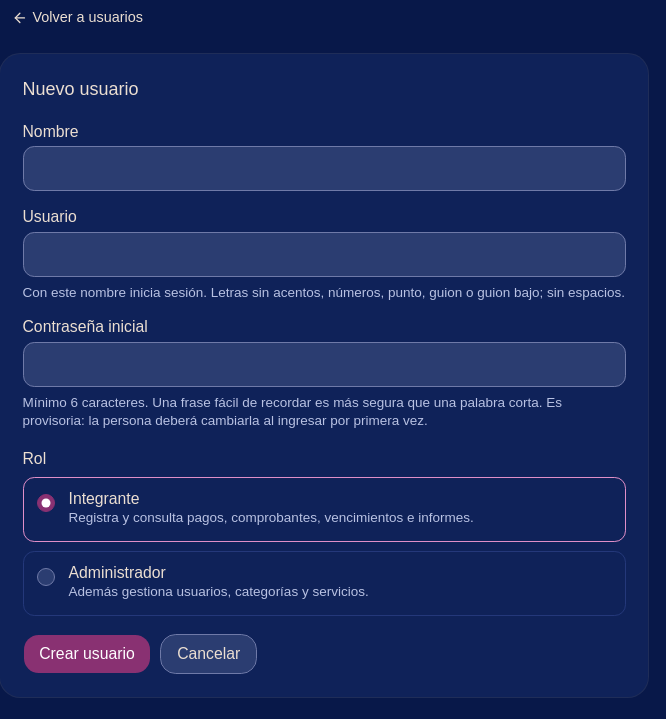
NewUserPage › rechaza nombres de usuario con espacios
Step 1. Type "Leo Pérez" into the field labelled "Nombre" → (324, 169), box x1=22 y1=146 x2=626 y2=191
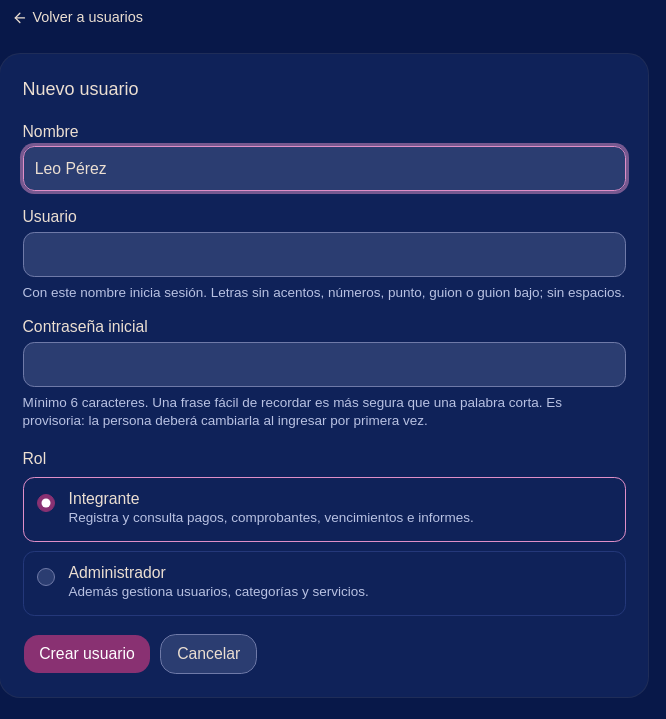
Step 2. Type "leo perez" into the field labelled "Usuario" → (324, 254), box x1=22 y1=232 x2=626 y2=277
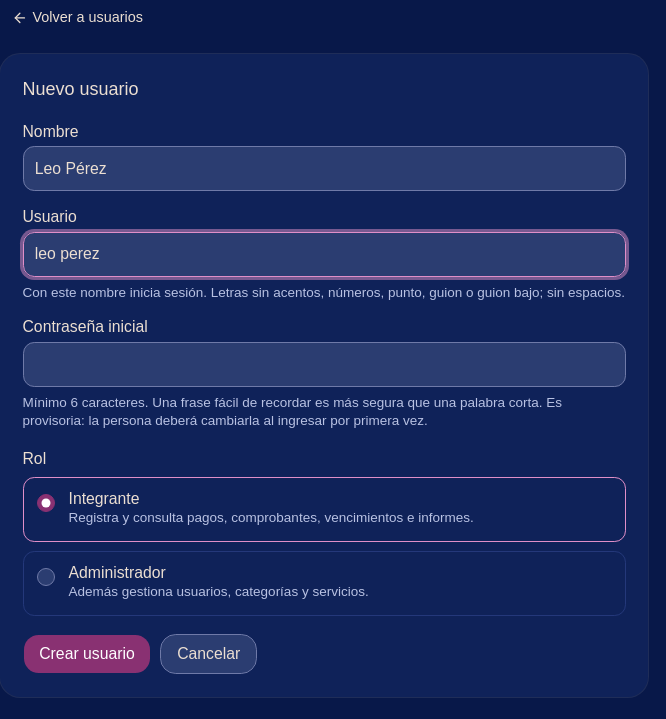
Step 3. Type "una-contraseña-larga" into the password field labelled "Contraseña inicial" → (324, 364), box x1=22 y1=342 x2=626 y2=387
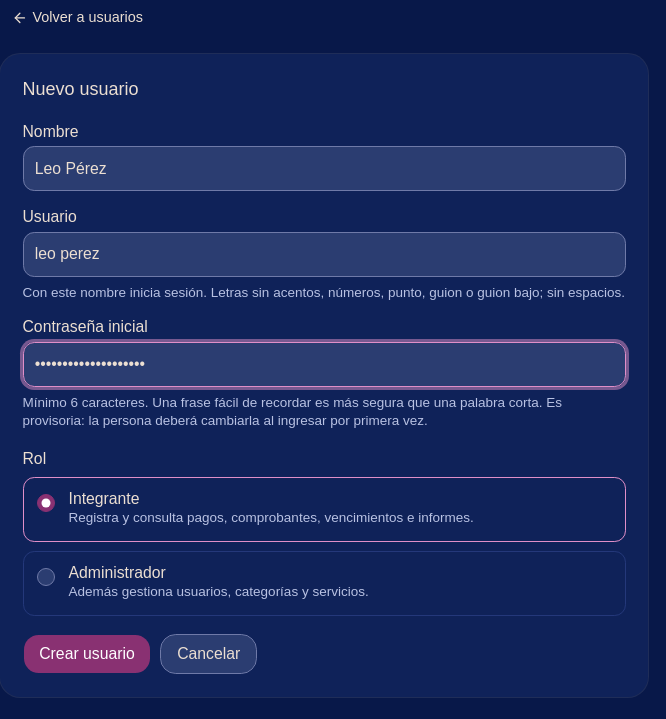
Step 4. Click the button "Crear usuario" → (87, 654), box x1=22 y1=634 x2=151 y2=674
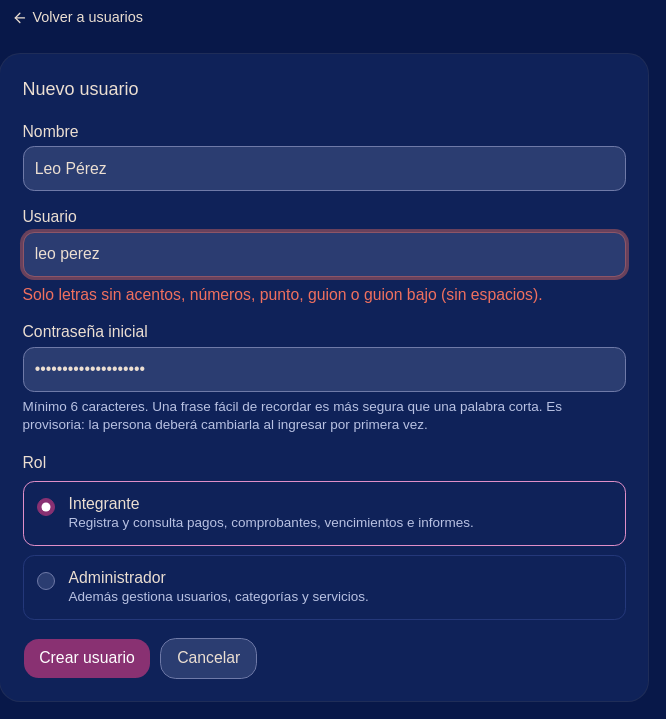
Expected: the text "sin espacios)." is shown, x1=22 y1=286 x2=543 y2=302
